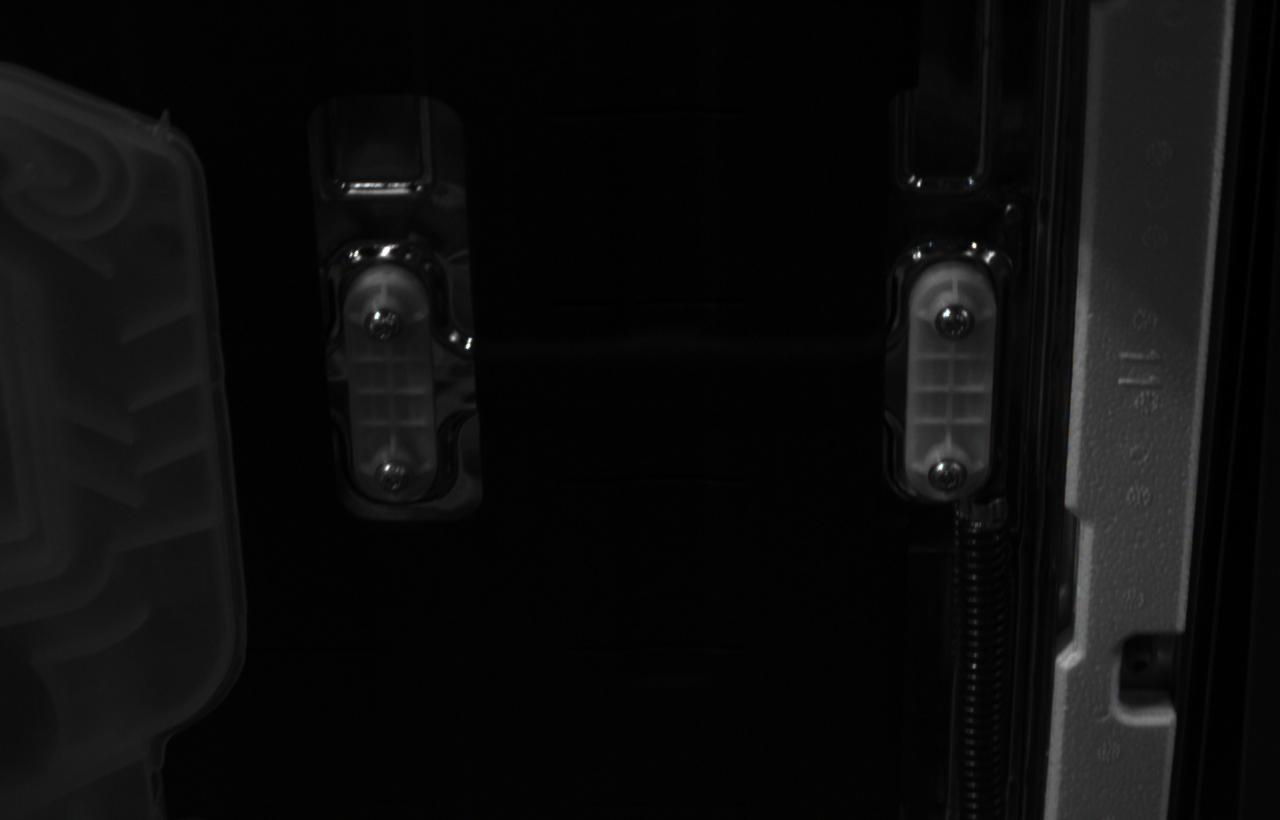vida-ok: (935, 304, 976, 342), (928, 458, 968, 493), (364, 307, 402, 343), (373, 459, 409, 495)
